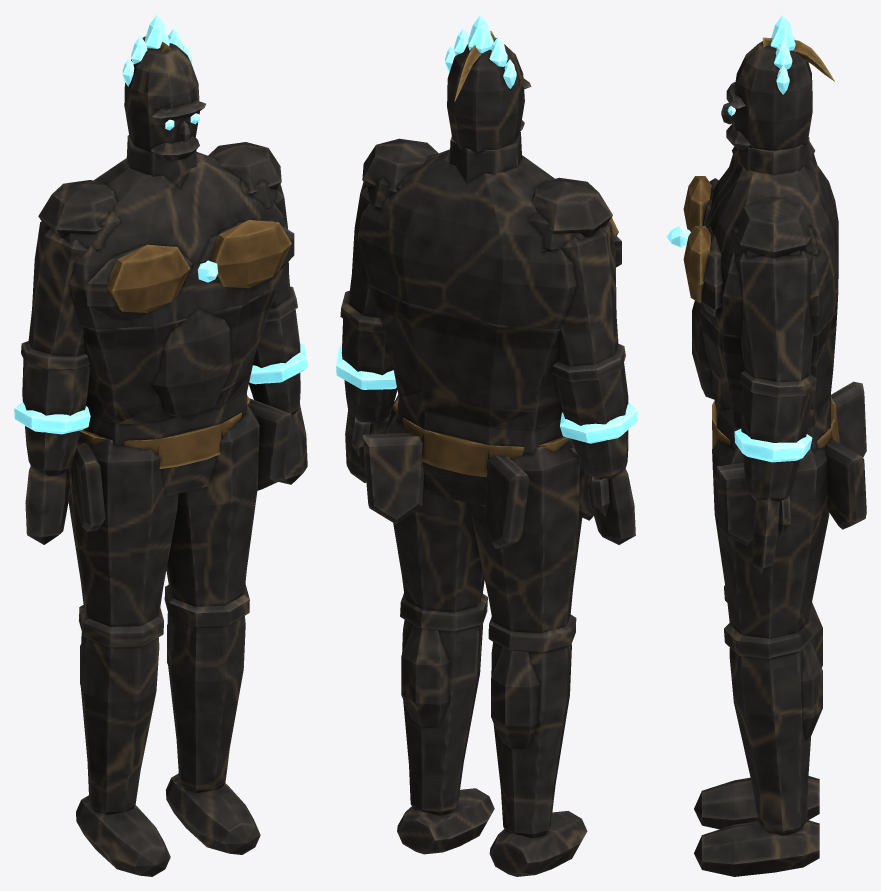
The model's file is underworld-surtling-earth-masculine.glb.
3 views of the same model, side by side, from view 1: azimuth 30°, elevation 25°; view 2: azimuth 150°, elevation 25°; view 3: azimuth 270°, elevation 25° (orthographic). The views are drawn at different scales.
Parts seen in each view (by area): view 1: Chest.chest, LeftUpperLeg.thigh, RightUpperLeg.thigh, LeftLowerLeg.shin, RightLowerLeg.shin, Spine.abdomen, Spine.abdomen-mass, Head.head, LeftUpperArm.upper-arm, LeftLowerArm.forearm, Hips.pelvis, LeftFoot.foot (+24 smaller); view 2: Chest.chest, Spine.abdomen, LeftUpperLeg.thigh, RightUpperLeg.thigh, LeftLowerLeg.shin, RightLowerLeg.shin, LeftUpperArm.upper-arm, Head.head, Hips.pelvis, LeftLowerArm.forearm, Hips.hip-plate-3, RightLowerLeg.calf (+20 smaller); view 3: RightUpperLeg.thigh, RightLowerLeg.shin, Chest.chest, RightUpperArm.upper-arm, Head.head, RightFoot.foot, RightLowerArm.forearm, Spine.abdomen, RightUpperArm.boulder, Hips.hip-plate-3, LeftFoot.foot, Hips.hip-plate-1 (+17 smaller).
Boxes of the visible parts, <box> form: Chest.chest: <box>68,152,286,329</box>; LeftUpperLeg.thigh: <box>68,434,178,627</box>; RightUpperLeg.thigh: <box>166,405,259,606</box>; LeftLowerLeg.shin: <box>80,632,159,814</box>; RightLowerLeg.shin: <box>167,613,245,793</box>; Spine.abdomen: <box>81,285,277,424</box>; Spine.abdomen-mass: <box>151,308,232,419</box>; Head.head: <box>124,43,199,152</box>; LeftUpperArm.upper-arm: <box>28,221,86,356</box>; LeftLowerArm.forearm: <box>22,359,89,475</box>; Hips.pelvis: <box>83,374,250,496</box>; LeftFoot.foot: <box>76,795,170,876</box>; Chest.chest: <box>357,149,616,329</box>; Spine.abdomen: <box>369,284,562,429</box>; LeftUpperLeg.thigh: <box>470,439,582,633</box>; RightUpperLeg.thigh: <box>385,408,484,612</box>; LeftLowerLeg.shin: <box>491,642,571,838</box>; RightLowerLeg.shin: <box>402,620,482,815</box>; LeftUpperArm.upper-arm: <box>541,221,618,366</box>; Head.head: <box>447,37,524,153</box>; Hips.pelvis: <box>396,392,562,506</box>; LeftLowerArm.forearm: <box>555,363,628,479</box>; Hips.hip-plate-3: <box>362,432,424,524</box>; RightLowerLeg.calf: <box>401,624,450,727</box>; RightUpperLeg.thigh: <box>712,439,829,638</box>; RightLowerLeg.shin: <box>729,648,810,835</box>; Chest.chest: <box>700,157,838,336</box>; RightUpperArm.upper-arm: <box>734,251,820,382</box>; Head.head: <box>733,41,812,150</box>; RightFoot.foot: <box>694,820,819,876</box>; RightLowerArm.forearm: <box>741,385,812,501</box>; Spine.abdomen: <box>700,310,837,427</box>; RightUpperArm.boulder: <box>732,197,815,258</box>; Hips.hip-plate-3: <box>825,438,866,529</box>; LeftFoot.foot: <box>694,776,819,829</box>; Hips.hip-plate-1: <box>717,463,755,545</box>.
Bounding box in the file's own units: 0.692 × 1.94 × 0.4204.
Materials: 3 (3 with a texture image).
